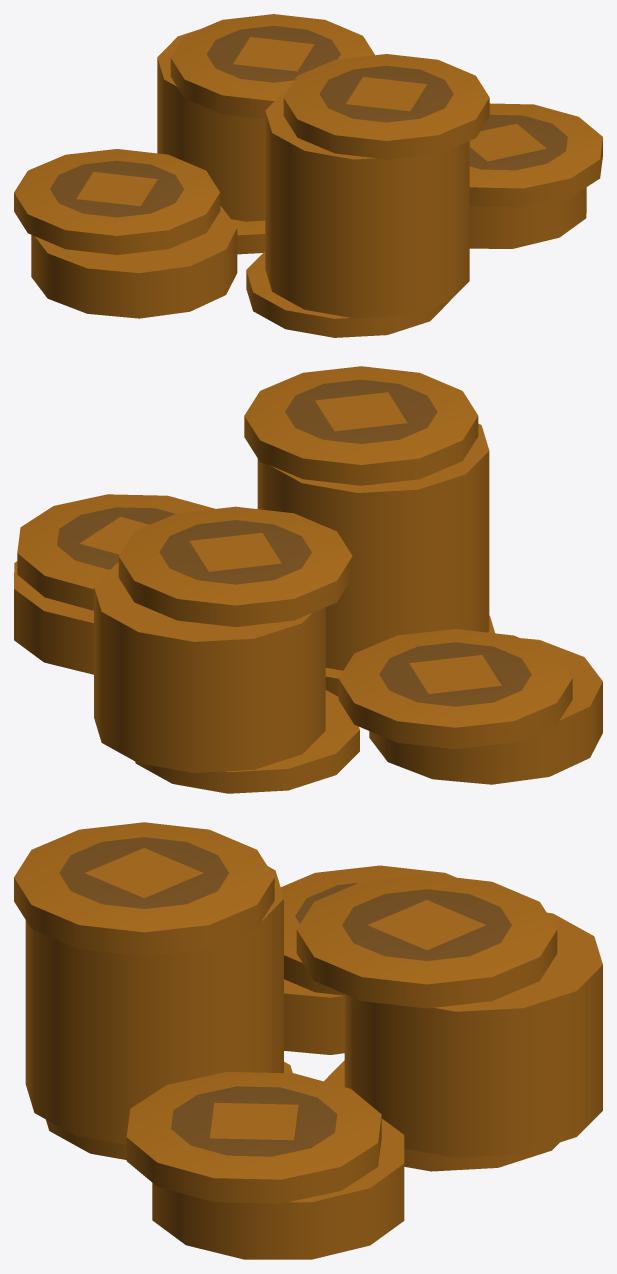
The model's file is Coin_Pile.gltf.
3 views of the same model, one above another, from view 1: azimuth 30°, elevation 25°; view 2: azimuth 150°, elevation 25°; view 3: azimuth 270°, elevation 25° (orthographic). The views are drawn at different scales.
Visible parts, largest first — view 1: Coin_Pile; view 2: Coin_Pile; view 3: Coin_Pile.
Part boxes in pixels (box(x1,y1,x2,y2)): Coin_Pile: box(14, 14, 602, 337); Coin_Pile: box(14, 366, 602, 793); Coin_Pile: box(14, 822, 602, 1259).
Bounding box in the file's own units: 0.1975 × 0.0735 × 0.1542.
